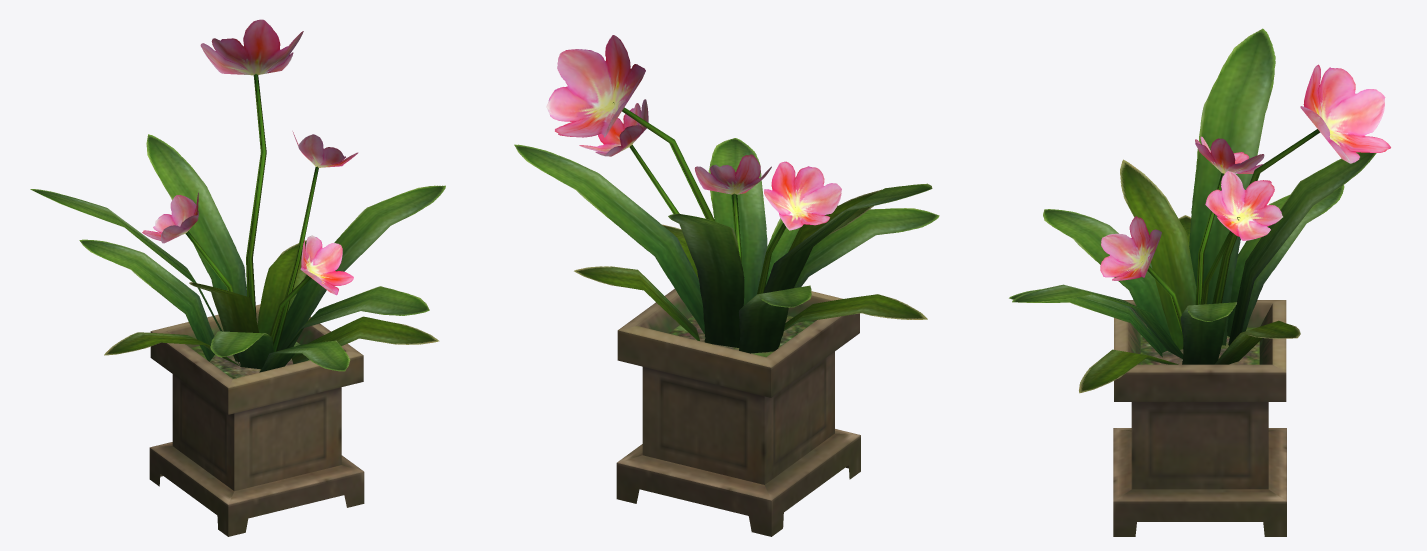
Rendered from wm_灌木盆栽01.fbx.
3 renders of one model, left to right at view 1: azimuth 30°, elevation 25°; view 2: azimuth 150°, elevation 25°; view 3: azimuth 270°, elevation 25°, orthographic. The views are drawn at different scales.
Parts seen in each view (by area): view 1: wm_灌木盆栽01; view 2: wm_灌木盆栽01; view 3: wm_灌木盆栽01.
Part boxes in pixels (x1=…): wm_灌木盆栽01: x1=30, y1=19, x2=445, y2=536; wm_灌木盆栽01: x1=514, y1=35, x2=939, y2=536; wm_灌木盆栽01: x1=1009, y1=28, x2=1390, y2=536.
Size of the model in its own units: 177 by 174 by 142.
